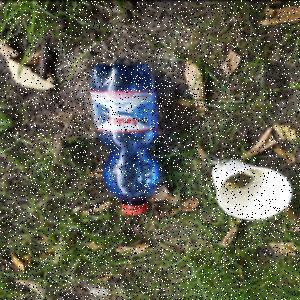Cup: (212, 159, 294, 221)
Plastic-bottle: (90, 62, 162, 216)
